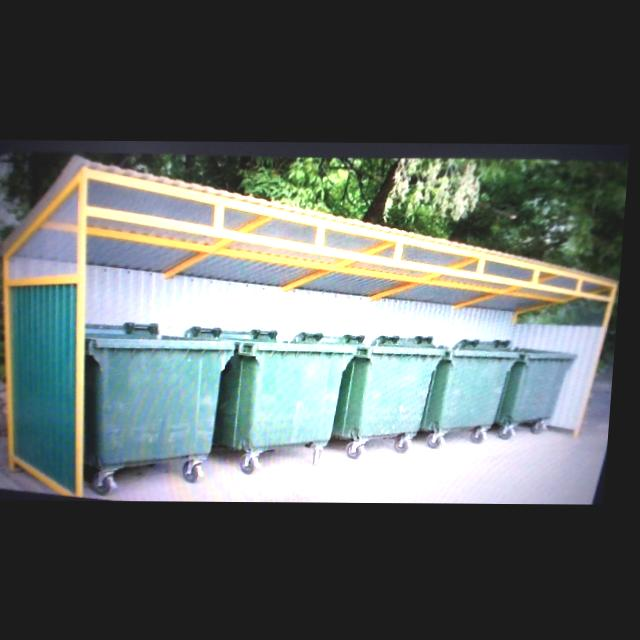Trash_Can_Empty: (82, 331, 241, 468), (203, 335, 362, 451), (339, 338, 452, 438), (429, 347, 525, 429), (502, 344, 582, 424)
